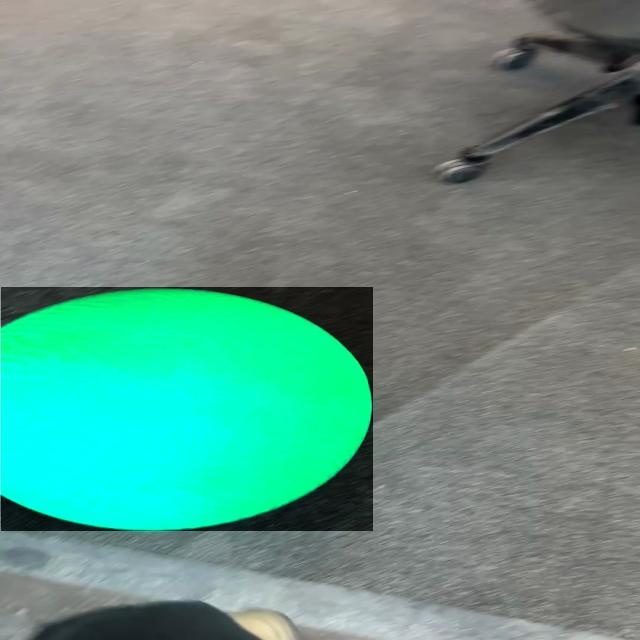Algae: (1, 287, 373, 531)
